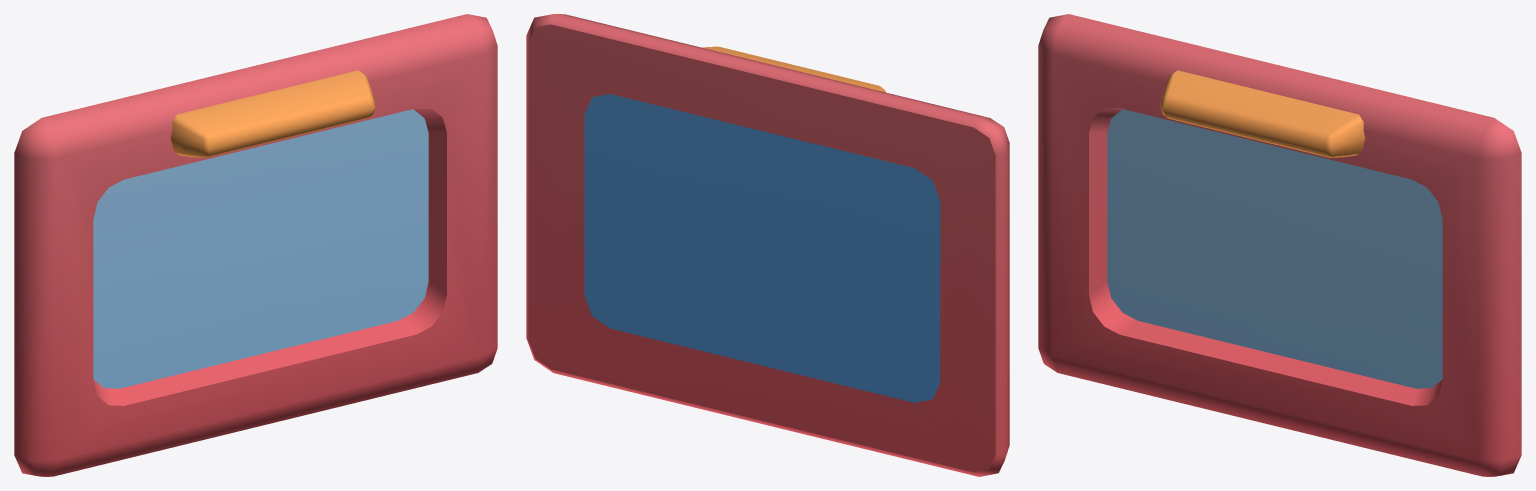
Rendered from Kitchen_stove_door_001.fbx.
The picture shows the model from 3 angles, left to right: view 1: azimuth 30°, elevation 25°; view 2: azimuth 150°, elevation 25°; view 3: azimuth 330°, elevation 25°; orthographic projection.
Visible parts, largest first — view 1: Kitchen_stove_door_001; view 2: Kitchen_stove_door_001; view 3: Kitchen_stove_door_001.
Boxes of the visible parts, x1=… form: Kitchen_stove_door_001: x1=14, y1=14, x2=497, y2=476; Kitchen_stove_door_001: x1=526, y1=14, x2=1009, y2=476; Kitchen_stove_door_001: x1=1038, y1=14, x2=1521, y2=476.
Bounding box in the file's own units: 74.4 × 11.03 × 53.14.
